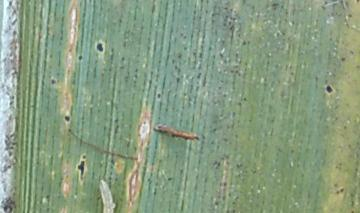tarspot: (76, 159, 87, 179), (323, 81, 335, 96), (94, 41, 105, 54), (62, 113, 73, 123), (48, 76, 57, 86), (75, 54, 86, 62), (154, 90, 162, 101), (340, 54, 347, 66), (79, 152, 90, 159)
